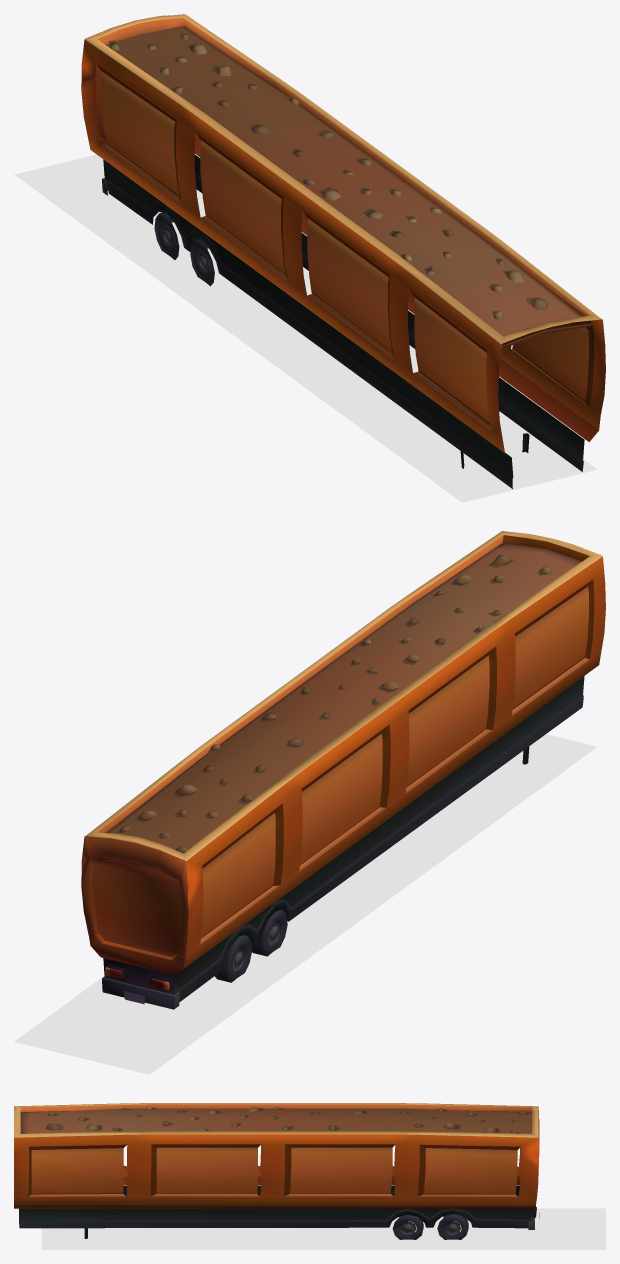
File: City_Double8_TruckTrailor02.fbx
3 views of the same model, one above another, from view 1: azimuth 30°, elevation 25°; view 2: azimuth 150°, elevation 25°; view 3: azimuth 270°, elevation 25° (orthographic). The views are drawn at different scales.
Visible parts, largest first — view 1: city_double8_truckTrailor02, truckTrailor01Shadow; view 2: city_double8_truckTrailor02, truckTrailor01Shadow; view 3: city_double8_truckTrailor02, truckTrailor01Shadow.
Boxes of the visible parts, <box> form: city_double8_truckTrailor02: <box>81,14,605,488</box>; truckTrailor01Shadow: <box>14,154,597,502</box>; city_double8_truckTrailor02: <box>81,531,605,1009</box>; truckTrailor01Shadow: <box>14,734,597,1074</box>; city_double8_truckTrailor02: <box>14,1103,539,1239</box>; truckTrailor01Shadow: <box>41,1208,605,1249</box>.
Size of the model in its own units: 148 by 190 by 888.
